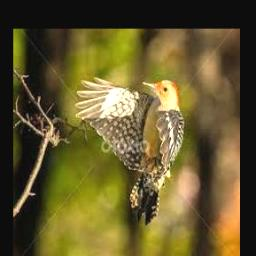Woodpecker: (75, 77, 185, 225)
